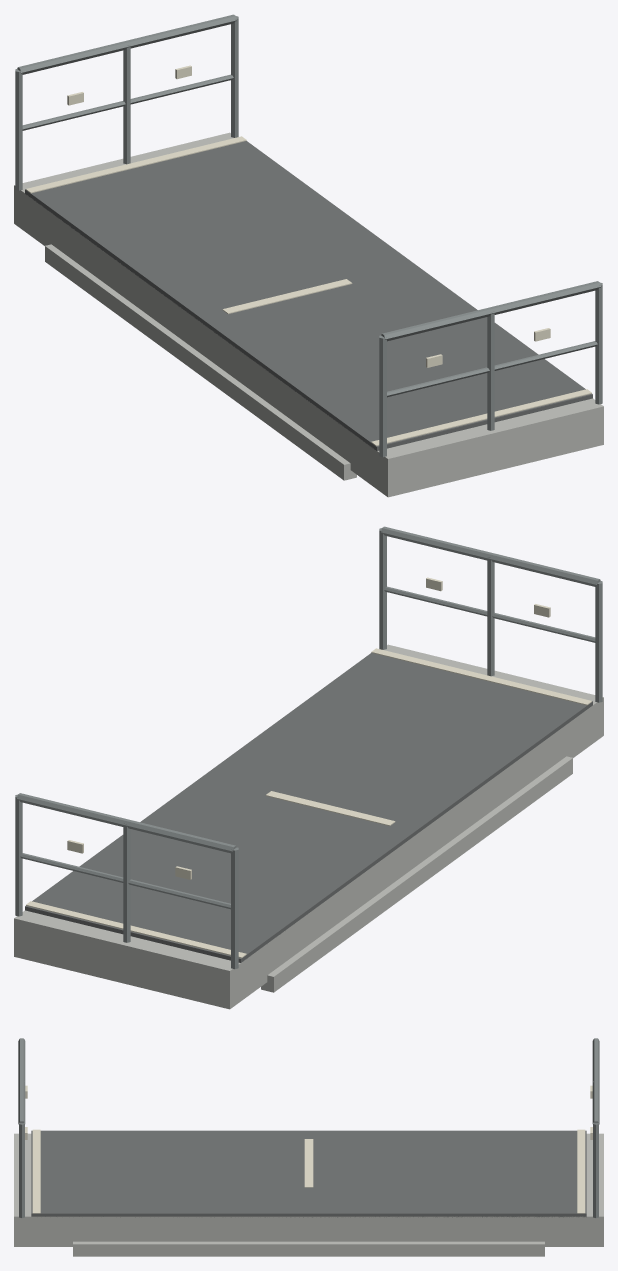
File: Bridge_Car_Deck_2m.fbx
3 views of the same model, one above another, from view 1: azimuth 30°, elevation 25°; view 2: azimuth 150°, elevation 25°; view 3: azimuth 270°, elevation 25° (orthographic). The views are drawn at different scales.
Parts seen in each view (by area): view 1: Bridge_Car_Deck_2m; view 2: Bridge_Car_Deck_2m; view 3: Bridge_Car_Deck_2m.
Part boxes in pixels (bbox=[...]): Bridge_Car_Deck_2m: bbox=[14, 14, 603, 497]; Bridge_Car_Deck_2m: bbox=[14, 526, 603, 1009]; Bridge_Car_Deck_2m: bbox=[14, 1038, 603, 1256].
Size of the model in its own units: 212 by 152 by 600.
